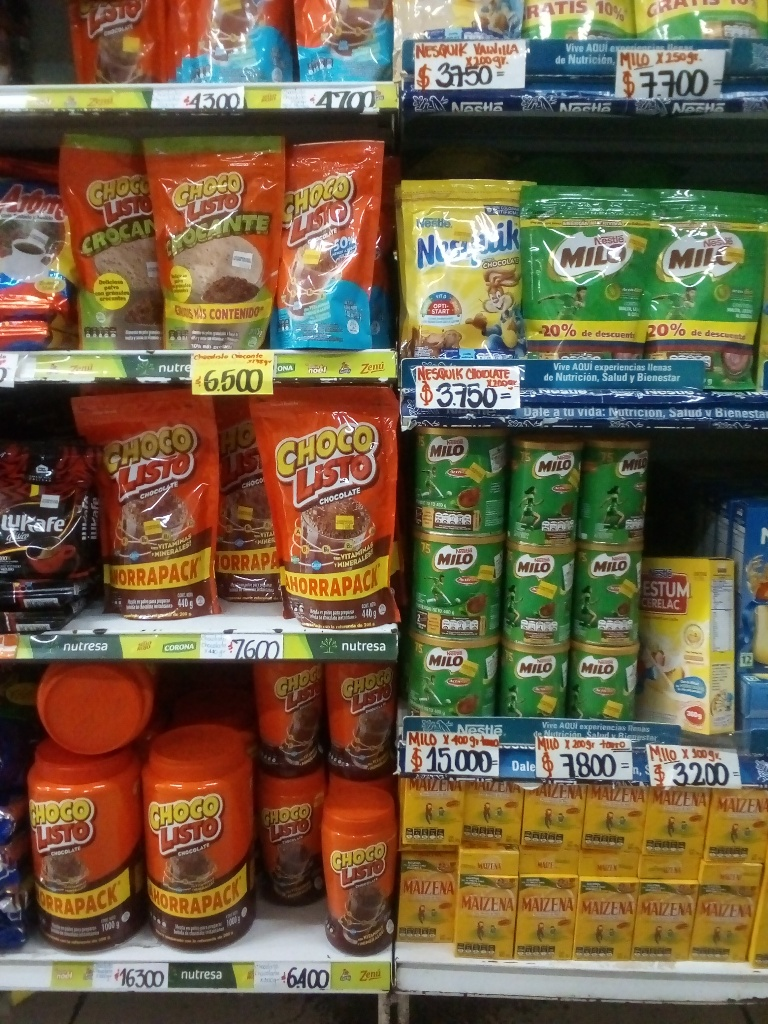COL0170103DYP44000: (80, 389, 215, 624)
COL0170103TRR00100: (23, 745, 138, 949)
COL0170104DYP20000: (285, 140, 387, 349)
COL0170203LAT20000: (583, 436, 646, 548)
COL0170203LAT40000: (419, 433, 505, 540)
COL0170303DYP20000: (403, 167, 523, 356)
